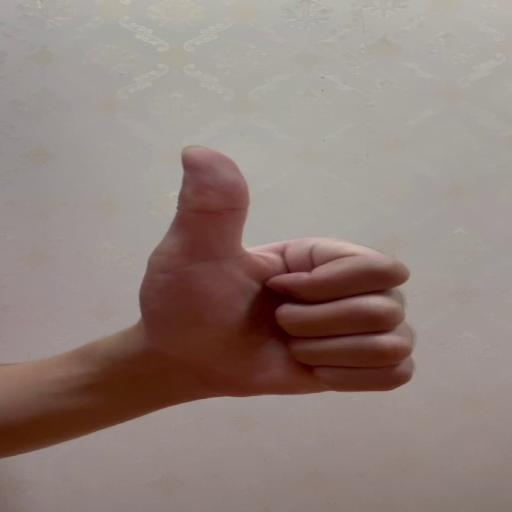thumbs_up: (139, 143, 418, 398)
